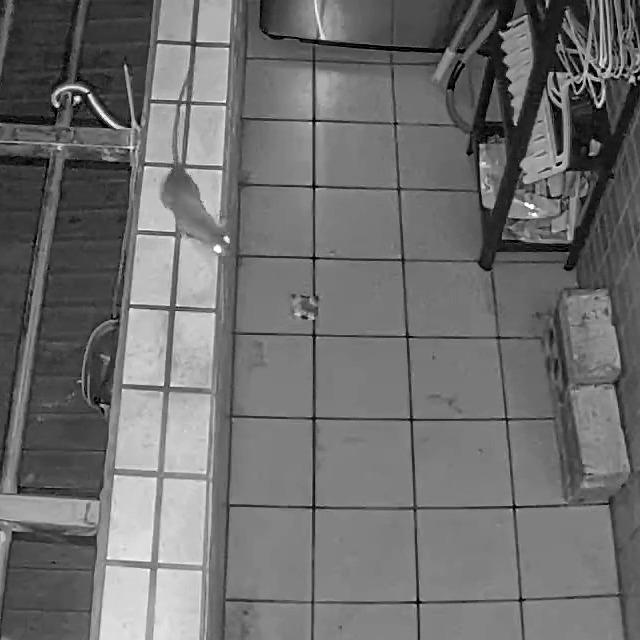rat: (160, 67, 237, 260)
